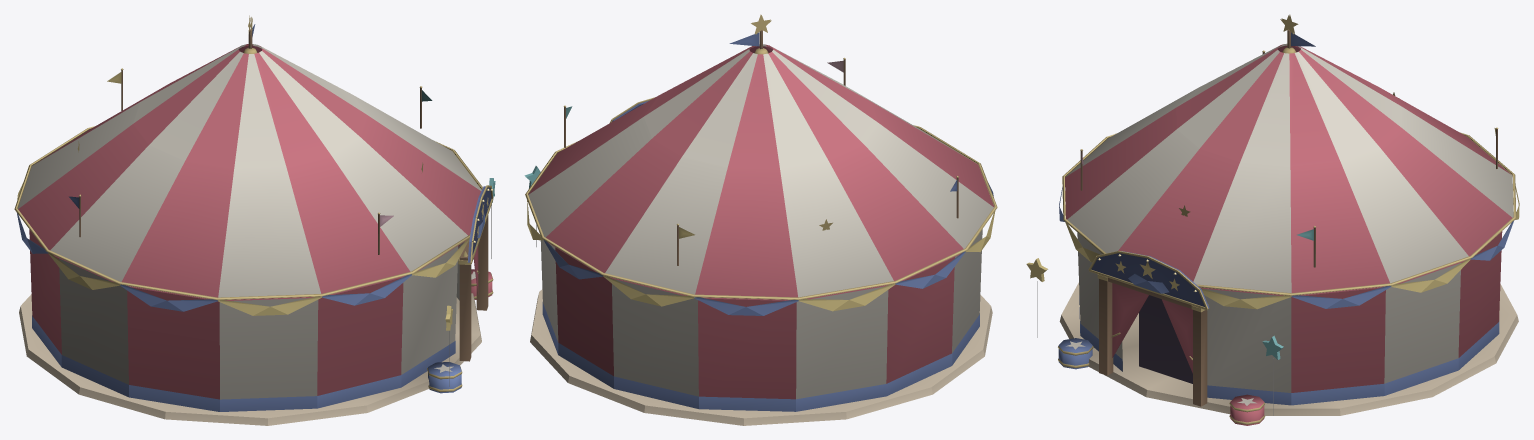
Rendered from circus_lite.glb.
3 views of the same model, side by side, from view 1: azimuth 30°, elevation 25°; view 2: azimuth 150°, elevation 25°; view 3: azimuth 270°, elevation 25° (orthographic). The views are drawn at different scales.
Visible parts, largest first — view 1: Circus_props, Circus_stone; view 2: Circus_props, Circus_stone; view 3: Circus_props, Circus_stone.
Boxes of the visible parts, bbox=[...] form: Circus_props: bbox=[14, 15, 495, 411]; Circus_stone: bbox=[19, 293, 481, 425]; Circus_props: bbox=[524, 14, 997, 411]; Circus_stone: bbox=[530, 289, 992, 425]; Circus_props: bbox=[1026, 14, 1519, 425]; Circus_stone: bbox=[1059, 282, 1518, 415].
Bounding box in the file's own units: 14.85 × 9.96 × 14.5.
